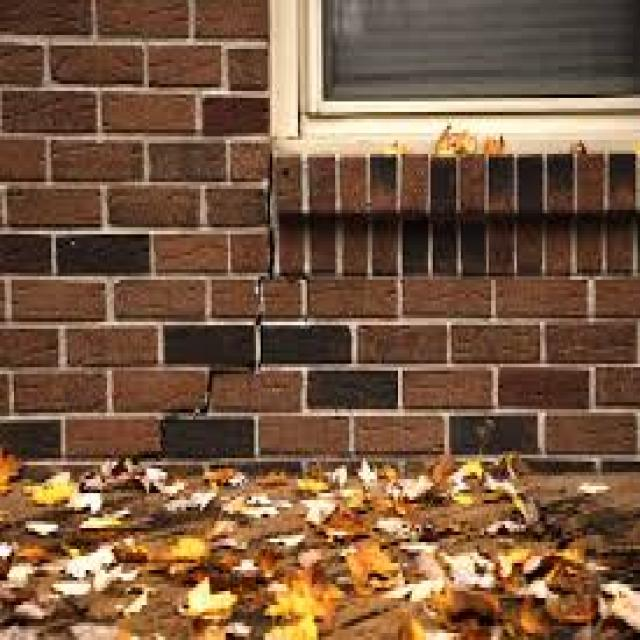Crack: (156, 154, 277, 455), (270, 266, 344, 322)
